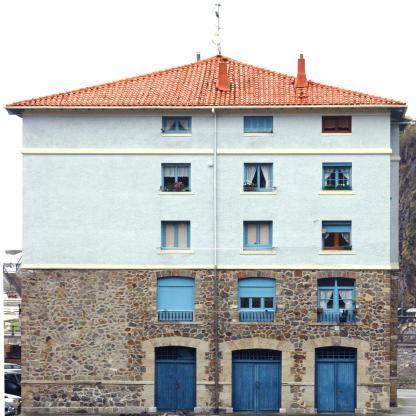Building Outline: (3, 54, 413, 413)
Cornice: (236, 270, 278, 279), (316, 271, 358, 279), (155, 270, 197, 278)
Door: (232, 361, 282, 413), (315, 360, 357, 413), (155, 361, 196, 412)
Facade: (3, 54, 413, 413)
Floor: (22, 269, 399, 332), (23, 207, 398, 264), (23, 153, 399, 203)
Floor Slab: (21, 149, 399, 153), (21, 265, 399, 269), (21, 203, 399, 207), (21, 333, 398, 337)
Ground Floor: (21, 336, 398, 412)
Roof: (3, 54, 408, 107)
Sill: (307, 322, 364, 325), (229, 322, 284, 325), (318, 251, 355, 255), (157, 250, 194, 254), (240, 251, 276, 255), (153, 322, 203, 324), (321, 133, 352, 136), (161, 134, 192, 137), (243, 134, 274, 137), (240, 192, 277, 194), (319, 192, 355, 194), (158, 192, 194, 194)
Top Floor: (23, 107, 399, 149)
Window: (238, 276, 276, 311), (317, 277, 356, 311), (157, 276, 195, 310), (322, 221, 351, 251), (161, 221, 191, 250), (243, 221, 272, 250), (322, 163, 352, 191), (161, 163, 191, 191), (243, 163, 272, 191), (155, 345, 196, 361), (232, 348, 282, 361), (315, 346, 357, 360), (322, 116, 351, 133), (162, 116, 191, 133), (244, 116, 273, 133)
